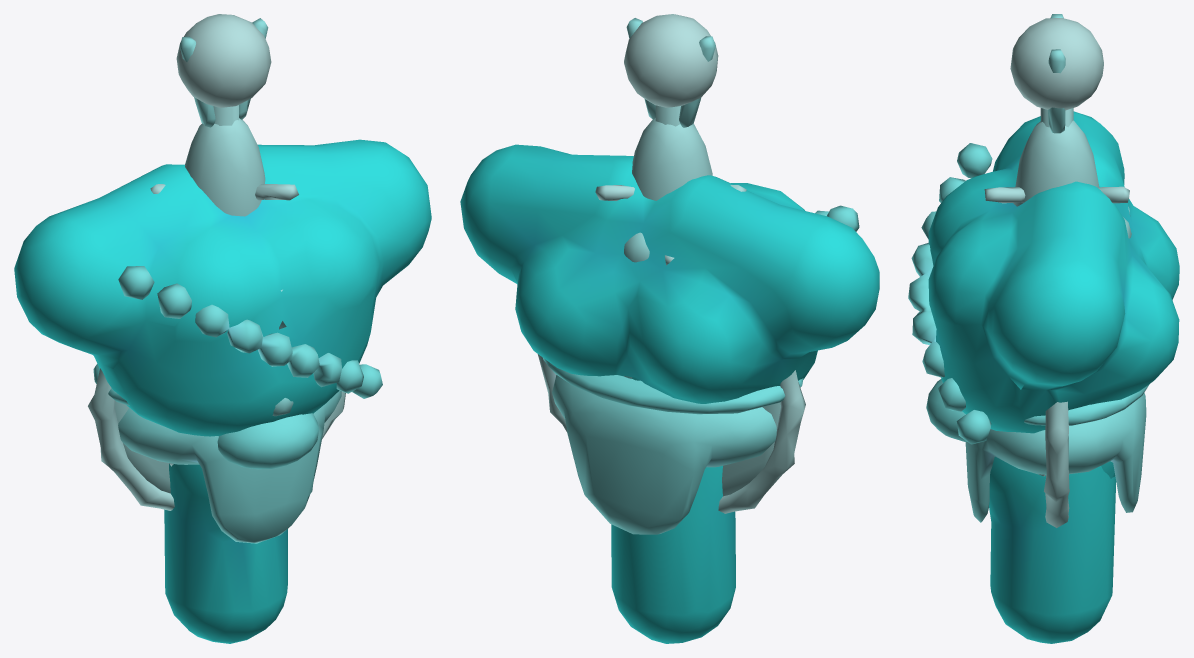
Rendered from creatures.glb.
3 renders of one model, left to right at view 1: azimuth 30°, elevation 25°; view 2: azimuth 150°, elevation 25°; view 3: azimuth 270°, elevation 25°, orthographic.
Visible parts, largest first — view 1: ork_torso, ork_thigh, ork_hips, ork_staff, ork_club, ork_shield, ork_foot; view 2: ork_torso, ork_hips, ork_thigh, ork_staff, ork_shield, ork_club; view 3: ork_torso, ork_thigh, ork_hips, ork_staff, ork_club, ork_shield, ork_foot.
Part boxes in pixels (x1,y1,x2,y2): ork_torso: (14, 139, 431, 436); ork_thigh: (164, 463, 287, 643); ork_hips: (93, 364, 341, 543); ork_staff: (176, 14, 271, 127); ork_club: (150, 118, 298, 216); ork_shield: (88, 368, 345, 510); ork_foot: (217, 413, 318, 469); ork_torso: (460, 144, 879, 403); ork_hips: (543, 358, 803, 534); ork_thigh: (611, 466, 735, 643); ork_staff: (624, 14, 718, 127); ork_shield: (537, 354, 805, 513); ork_club: (595, 118, 746, 265); ork_torso: (908, 111, 1179, 444); ork_thigh: (989, 456, 1116, 643); ork_hips: (965, 384, 1149, 522); ork_staff: (1010, 14, 1103, 133); ork_club: (984, 120, 1129, 214); ork_shield: (1038, 401, 1069, 527); ork_foot: (926, 379, 966, 441).
Size of the model in its own units: 0.8402 by 1.24 by 0.4944.
